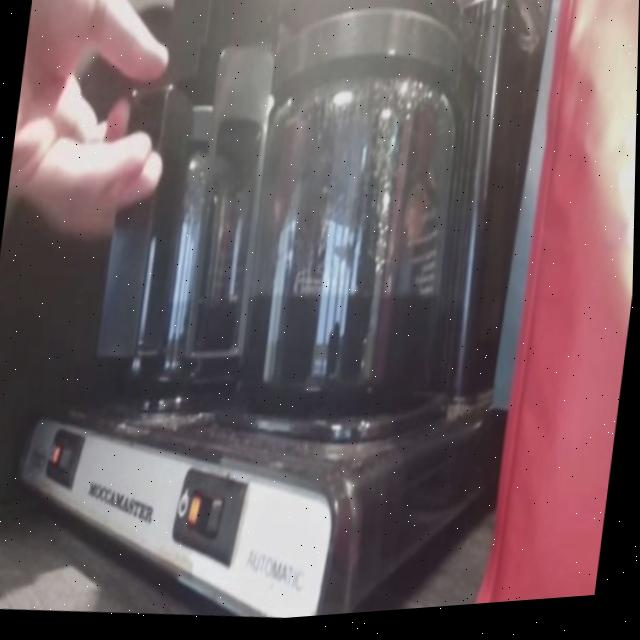coffee: (236, 106, 464, 411), (94, 220, 253, 409)
